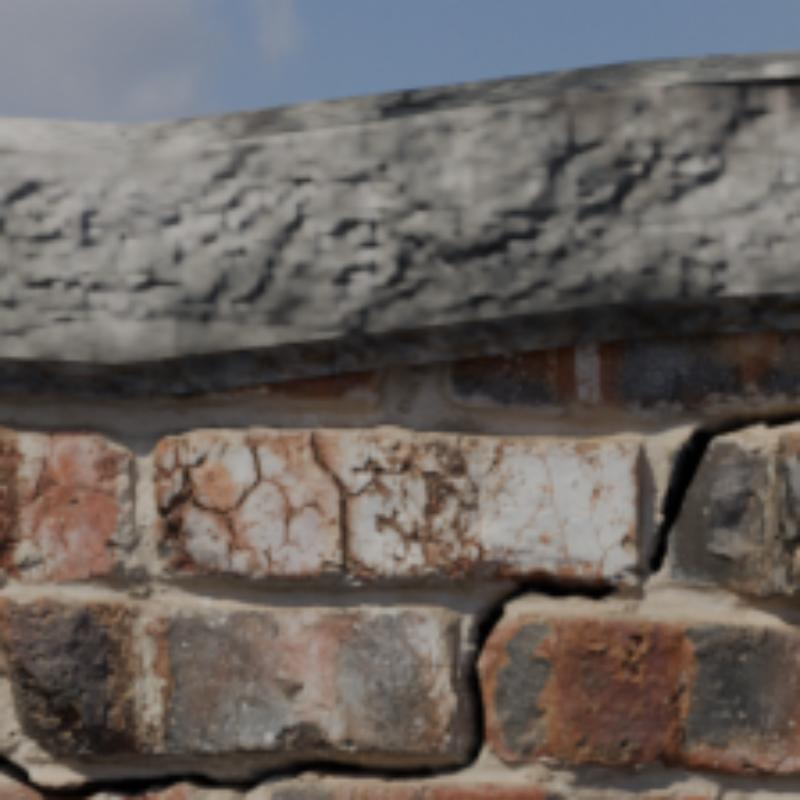pothole: (0, 571, 625, 796), (626, 404, 796, 579), (311, 432, 354, 575)
